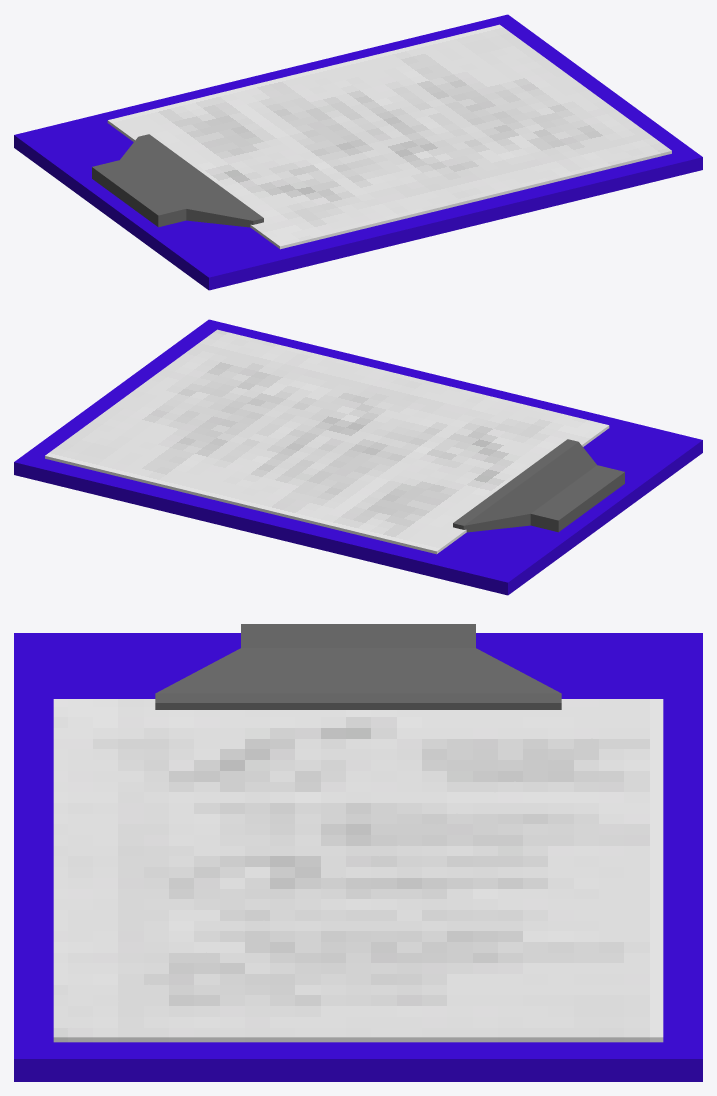
The model's file is clipboard.glb.
The picture shows the model from 3 angles, top to bottom: view 1: azimuth 30°, elevation 25°; view 2: azimuth 150°, elevation 25°; view 3: azimuth 270°, elevation 25°; orthographic projection. The views are drawn at different scales.
Visible parts, largest first — view 1: Cube.002, Cube, Cube.001; view 2: Cube.002, Cube, Cube.001; view 3: Cube.002, Cube, Cube.001.
Part boxes in pixels (bbox=[...]): Cube.002: bbox=[107, 24, 671, 249]; Cube: bbox=[14, 14, 702, 290]; Cube.001: bbox=[92, 134, 263, 227]; Cube.002: bbox=[45, 329, 609, 554]; Cube: bbox=[14, 319, 702, 595]; Cube.001: bbox=[453, 439, 624, 532]; Cube.002: bbox=[53, 699, 663, 1042]; Cube: bbox=[14, 633, 702, 1081]; Cube.001: bbox=[155, 624, 561, 709].
Bounding box in the file's own units: 0.1461 × 0.00695 × 0.0999.
3 materials, 1 textured.
